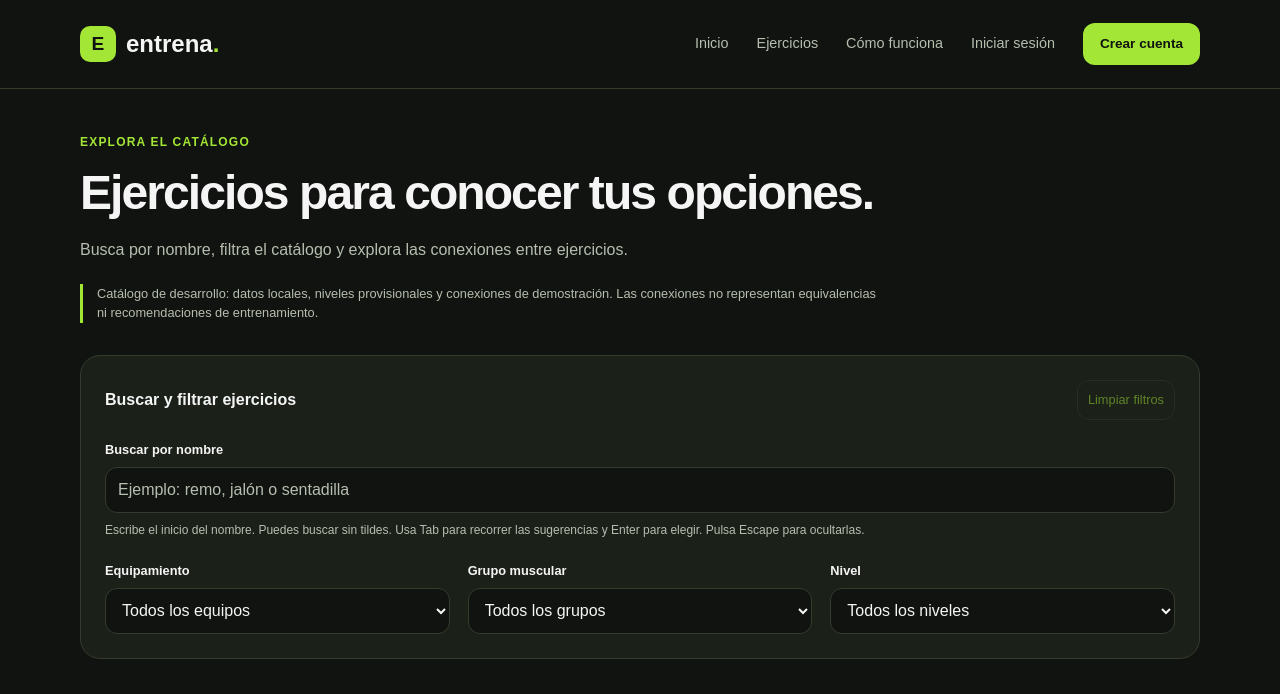
Test: CatalogComponent › busca por prefijo y muestra una sugerencia
Type "re" into the search field with id "exercise-search" at (640, 490), box [105,467,1175,513]
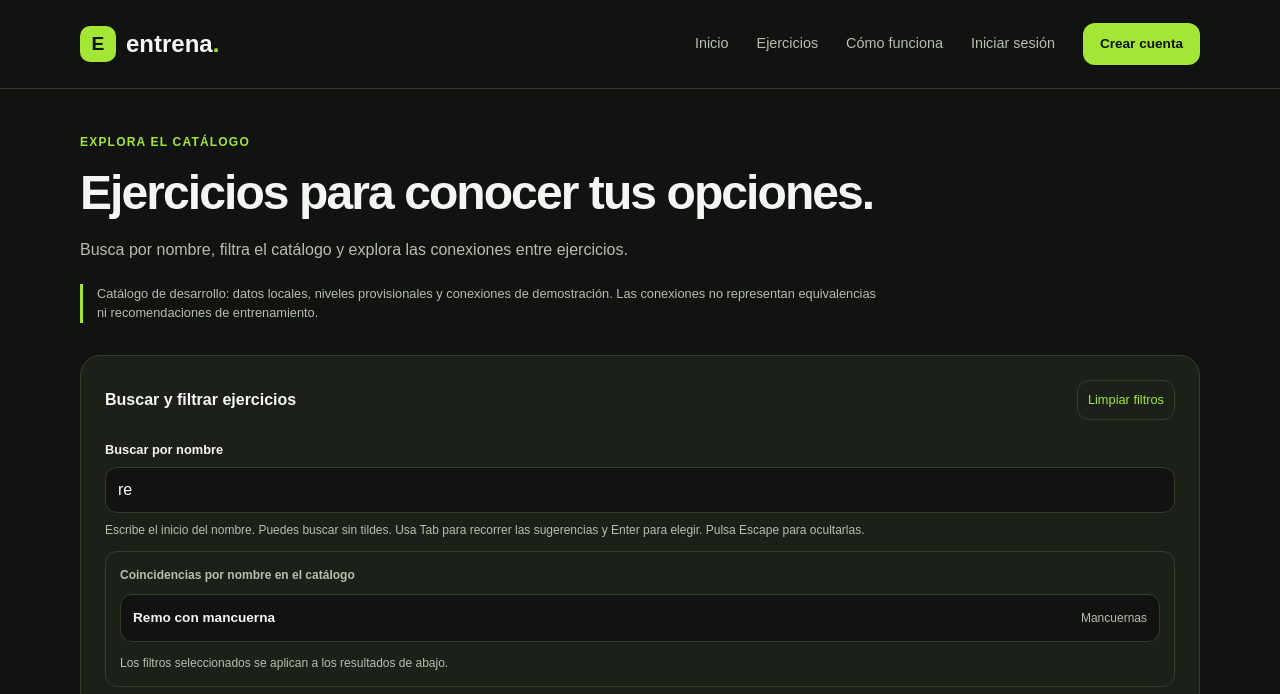
Result: the number of buttons with class "search-suggestions__option" is 1 at [120,594,1160,642]
Result: the button with class "search-suggestions__option" shows "Remo con mancuerna" at [120,594,1160,642]
